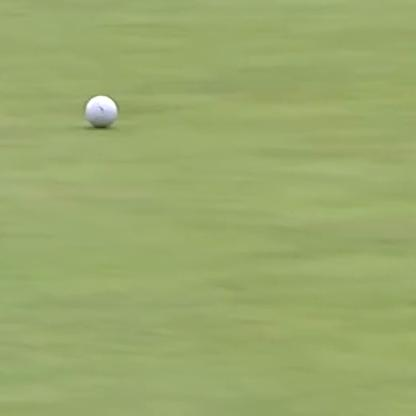golfball: (82, 91, 118, 127)
